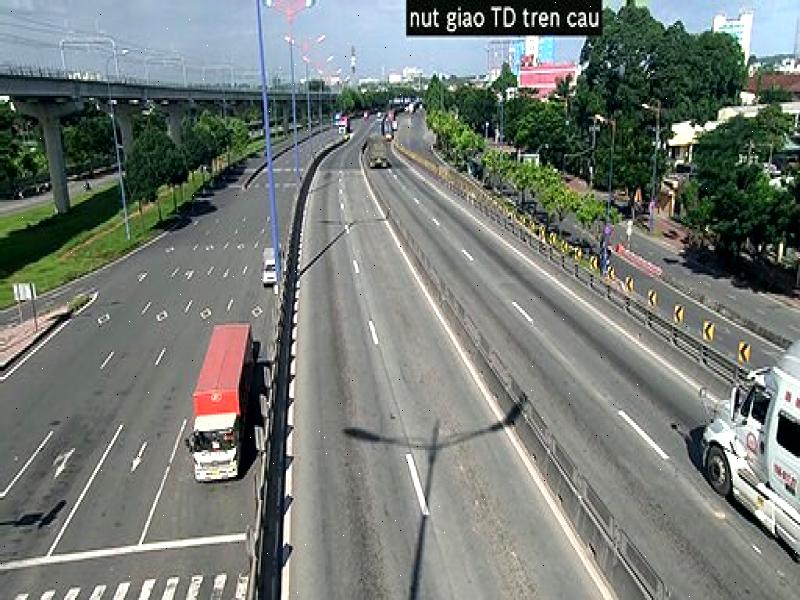truck: (699, 336, 800, 561), (186, 315, 256, 483)
